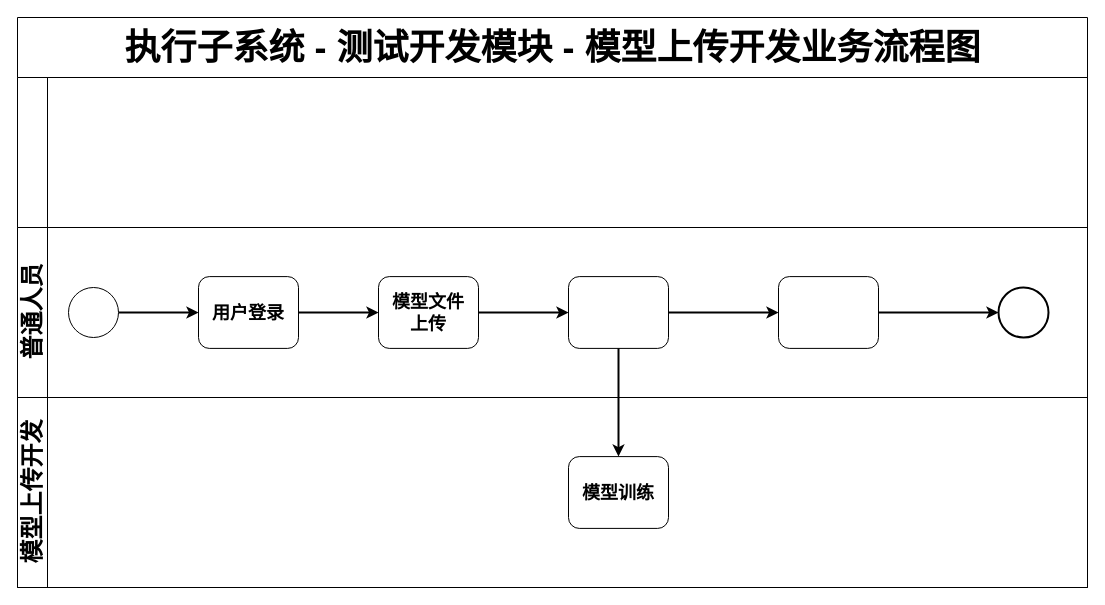
Image size: 1105x605. Some labels were removed from this diagram. The centre of each missing label's shape, as x and y in pixels:
"模型训练 执行" goes at (x=618, y=312).
"系统管理员" goes at (x=552, y=152).
"训练结果 查看" goes at (x=828, y=312).
